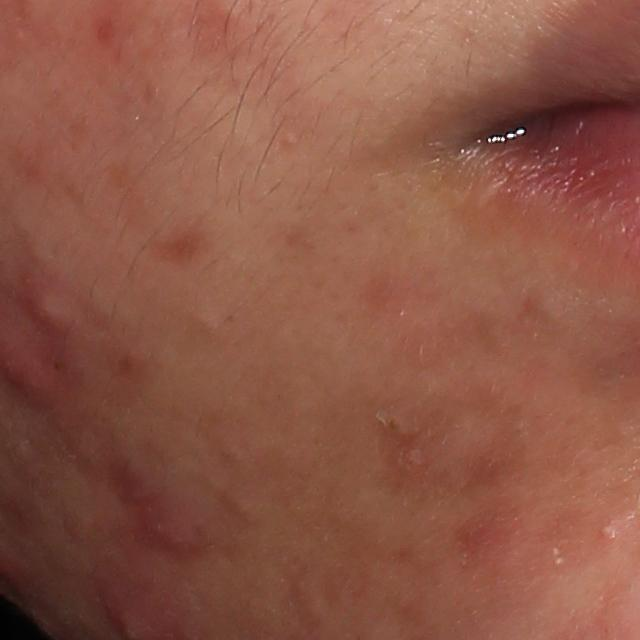comedo: (230, 495, 256, 518)
papule: (112, 442, 228, 560), (21, 281, 82, 360)
